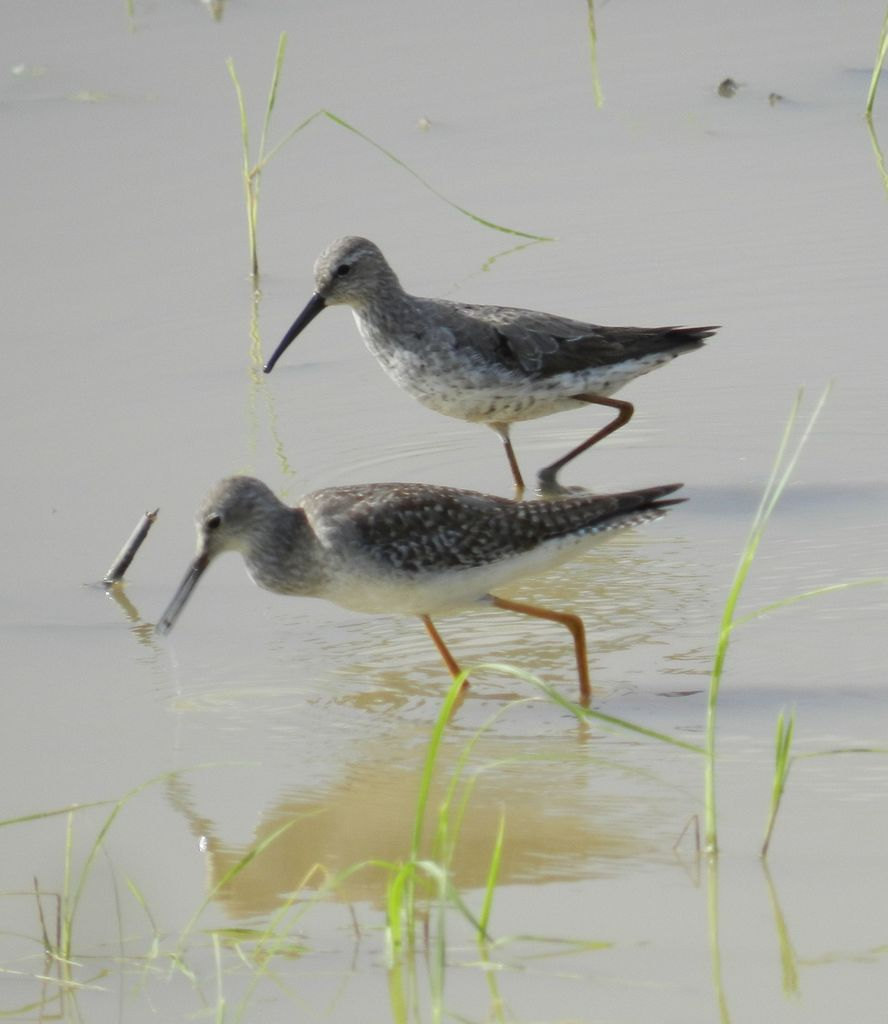Bird: (157, 477, 688, 707), (262, 231, 725, 494)
